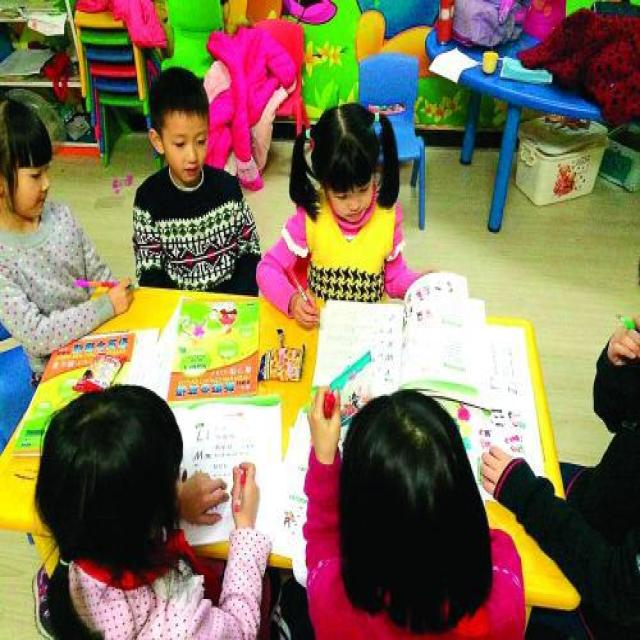head: (340, 382, 482, 610), (37, 392, 192, 568), (306, 97, 384, 222), (145, 60, 211, 181)
